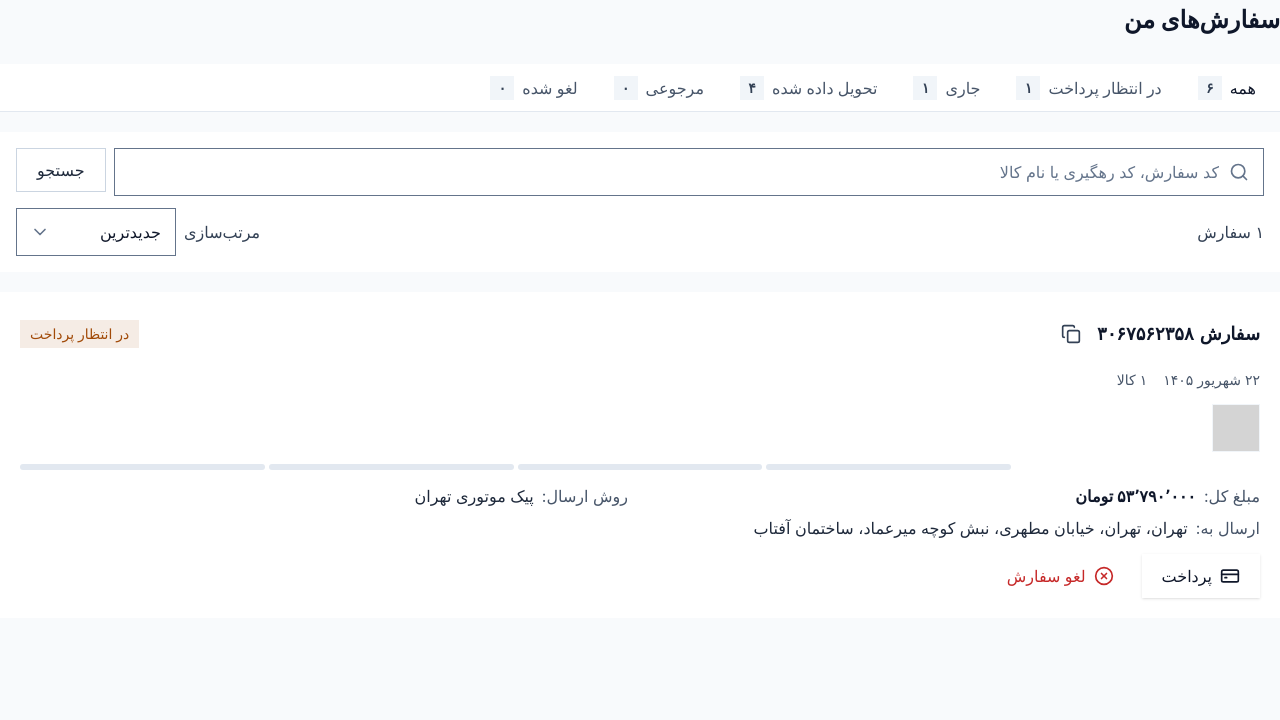
Scenario: a cancellation from a card › «لغو سفارش» goes with it: the focus to the card’s heading
Click the button "لغو سفارش". click: {"x": 1060, "y": 576}
box: [987,554,1134,598]
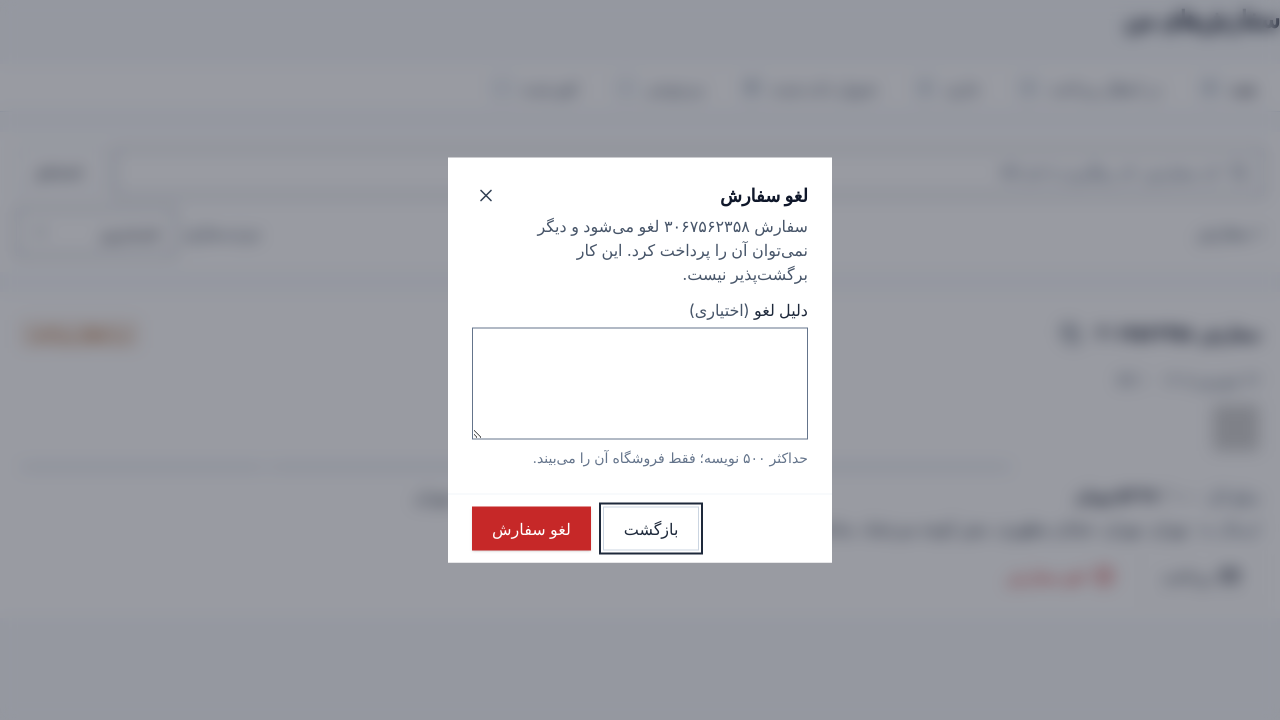
Click the button "لغو سفارش". click: {"x": 531, "y": 528}
box: [472,506,591,550]
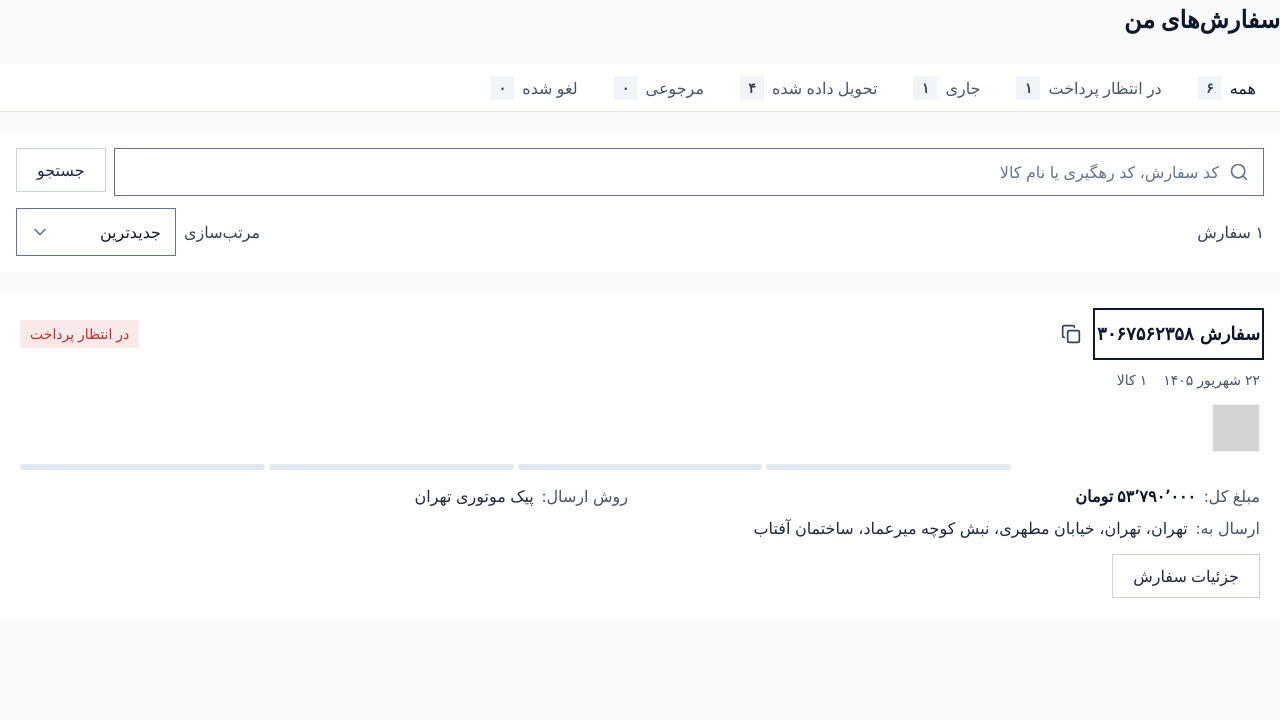
Result: the dialog is gone
Result: the button "لغو سفارش" is gone
